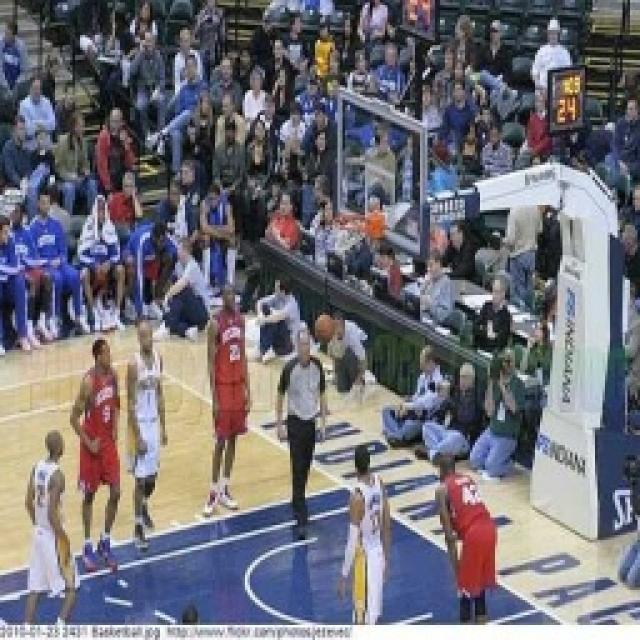rim: (312, 308, 336, 346)
